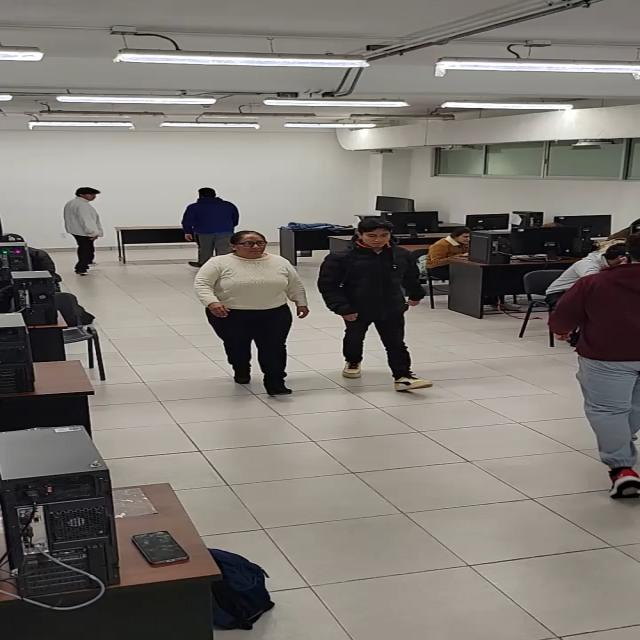Persona: (320, 216, 439, 397), (192, 227, 311, 404), (58, 184, 110, 277), (178, 184, 238, 255)
